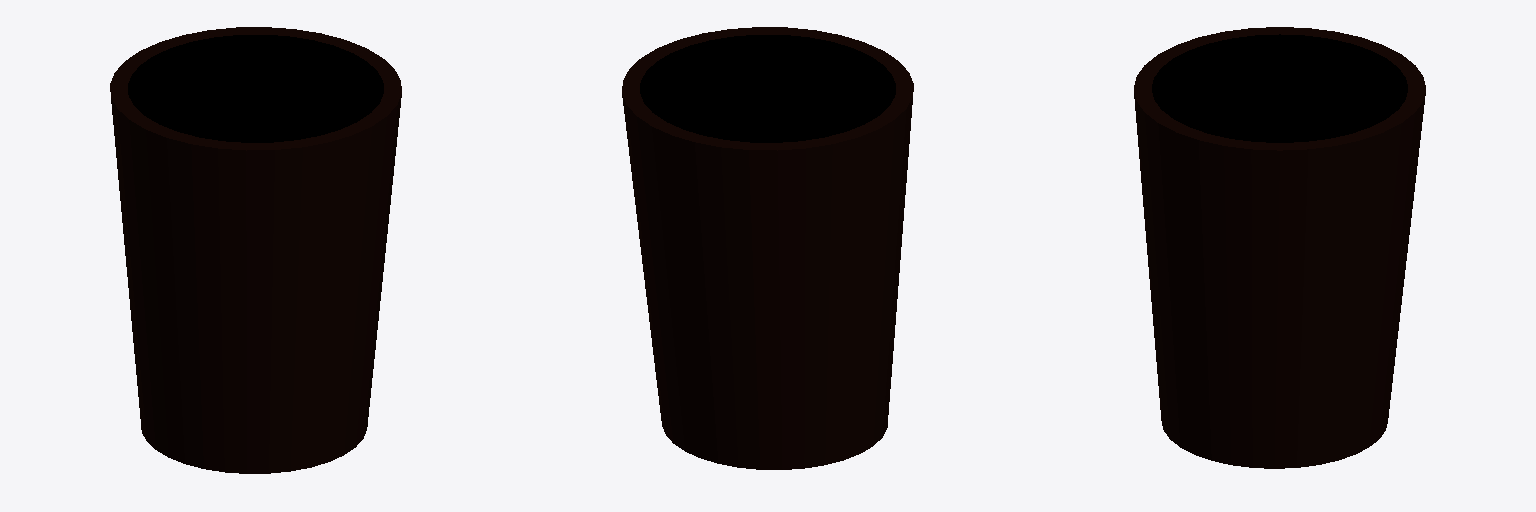
Rendered from can.obj.
The picture shows the model from 3 angles: view 1: azimuth 30°, elevation 25°; view 2: azimuth 150°, elevation 25°; view 3: azimuth 270°, elevation 25°; orthographic projection.
Visible parts, largest first — view 1: Cylinder; view 2: Cylinder; view 3: Cylinder.
Boxes of the visible parts, x1=… form: Cylinder: x1=110, y1=27, x2=401, y2=473; Cylinder: x1=622, y1=27, x2=913, y2=469; Cylinder: x1=1134, y1=27, x2=1425, y2=468.
Size of the model in its own units: 2.58 by 3.26 by 2.58.